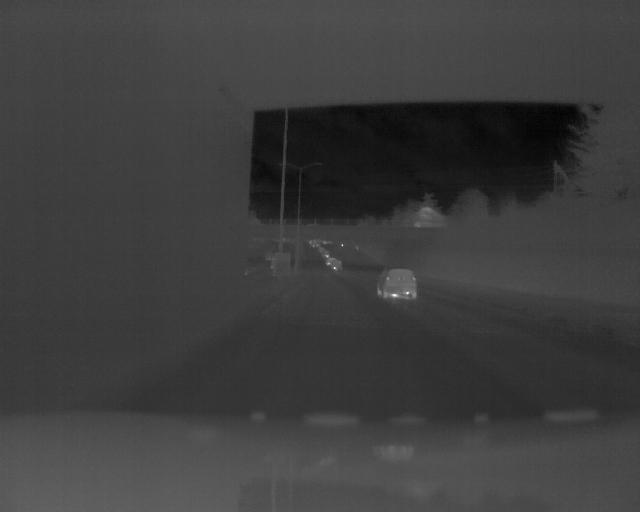car: (372, 263, 422, 303), (327, 258, 346, 272)
